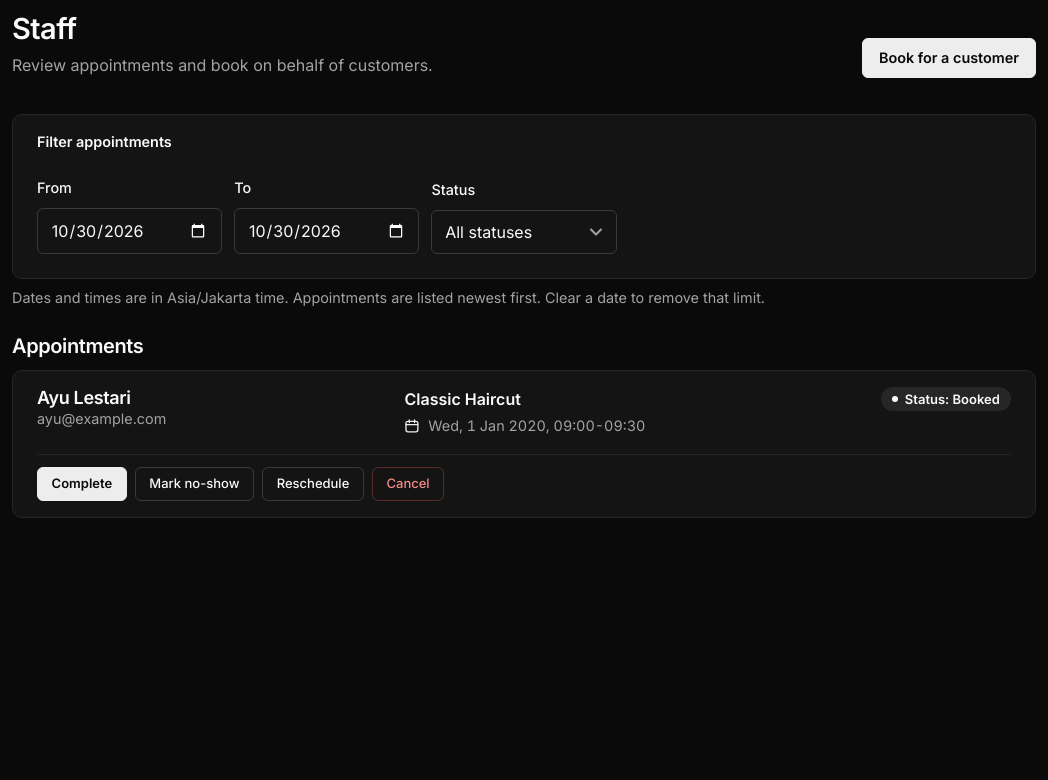
Scenario: StaffAppointmentList actions › marks an appointment completed and keeps the customer details
Step 1. Click the button named "Complete appointment for Ayu Lestari" → (82, 484), box [37, 467, 127, 501]
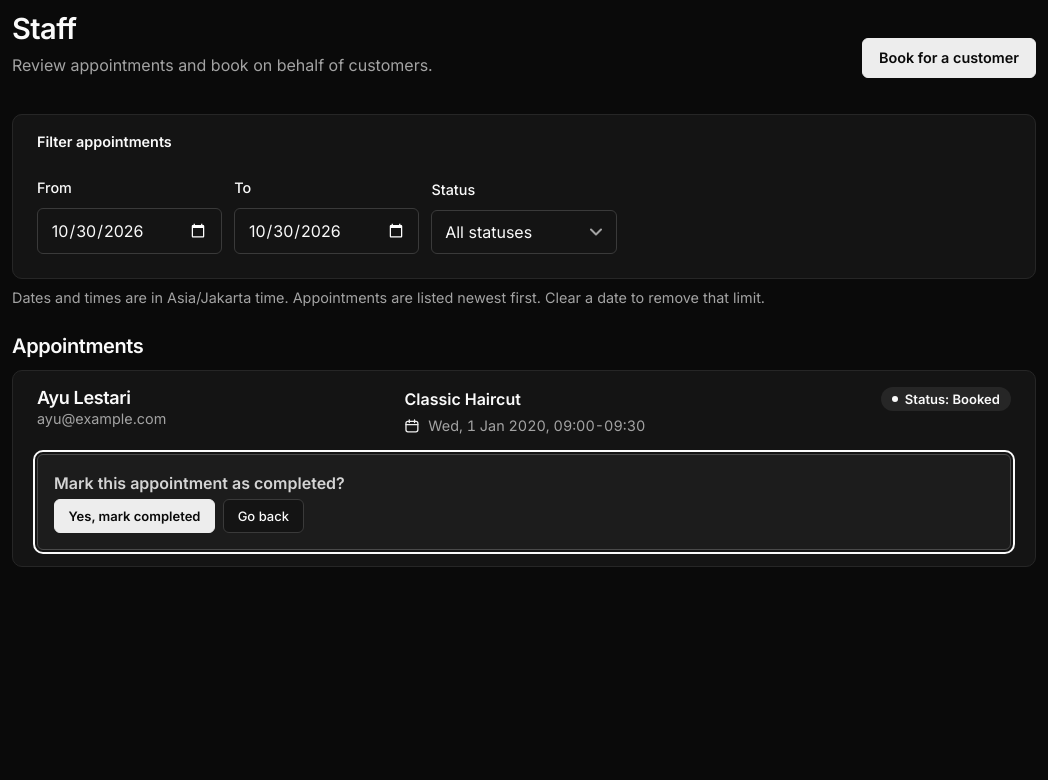
Step 2. Click the button "Yes, mark completed" → (134, 516), box [54, 499, 215, 533]
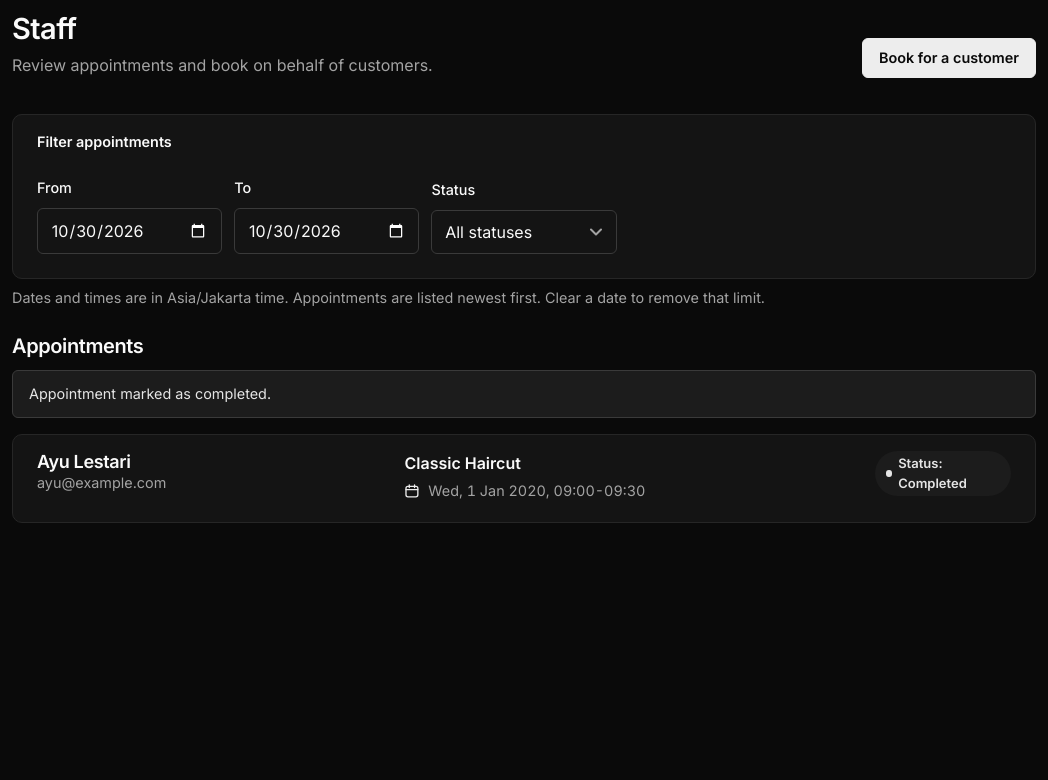
Check: the text "ayu@example.com" is shown, box [37, 474, 166, 491]
Check: the text "Appointment marked as completed." is shown, box [12, 370, 1036, 418]
Check: the text "Status: Completed" is shown, box [875, 451, 1011, 496]
